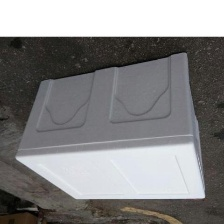foam_box: (11, 50, 211, 205)
